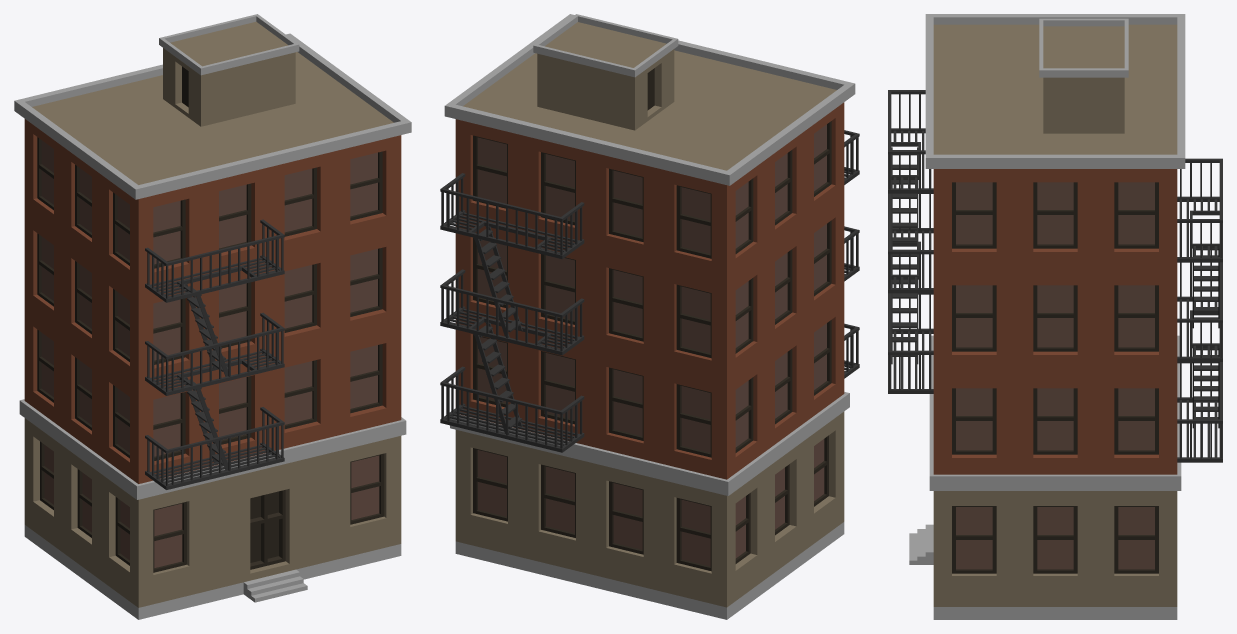
Rendered from Buiding_4.fbx.
3 views of the same model, side by side, from view 1: azimuth 30°, elevation 25°; view 2: azimuth 150°, elevation 25°; view 3: azimuth 270°, elevation 25° (orthographic). The views are drawn at different scales.
Visible parts, largest first — view 1: Building_4; view 2: Building_4; view 3: Building_4.
Boxes of the visible parts, x1=… form: Building_4: x1=14, y1=14, x2=411, y2=619; Building_4: x1=440, y1=14, x2=859, y2=619; Building_4: x1=888, y1=14, x2=1222, y2=619.
Size of the model in its own units: 4200 by 7100 by 4125.
